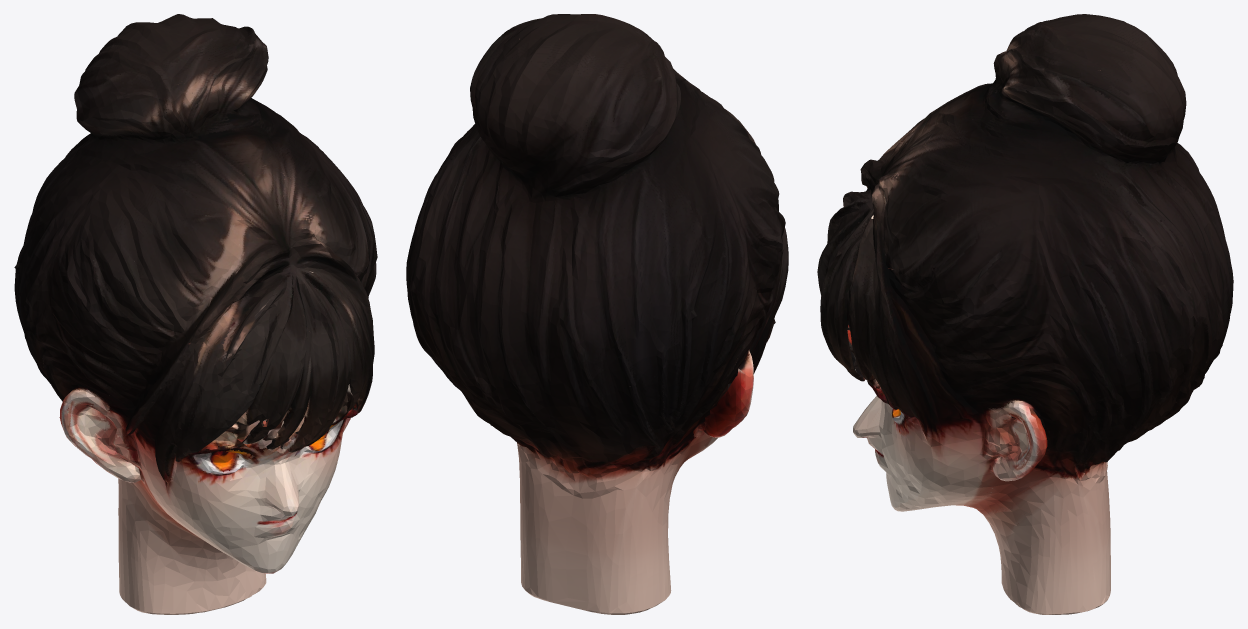
The model's file is side_mutsuye_repaired_atlas.glb.
3 views of the same model, side by side, from view 1: azimuth 30°, elevation 25°; view 2: azimuth 150°, elevation 25°; view 3: azimuth 270°, elevation 25° (orthographic). The views are drawn at different scales.
Parts seen in each view (by area): view 1: temp_mesh.ply; view 2: temp_mesh.ply; view 3: temp_mesh.ply.
Boxes of the visible parts, <box> form: temp_mesh.ply: <box>14,14,377,614</box>; temp_mesh.ply: <box>406,14,788,614</box>; temp_mesh.ply: <box>817,14,1233,614</box>.
Bounding box in the file's own units: 0.8773 × 1.5 × 1.01.
Materials: 1 (1 with a texture image).
